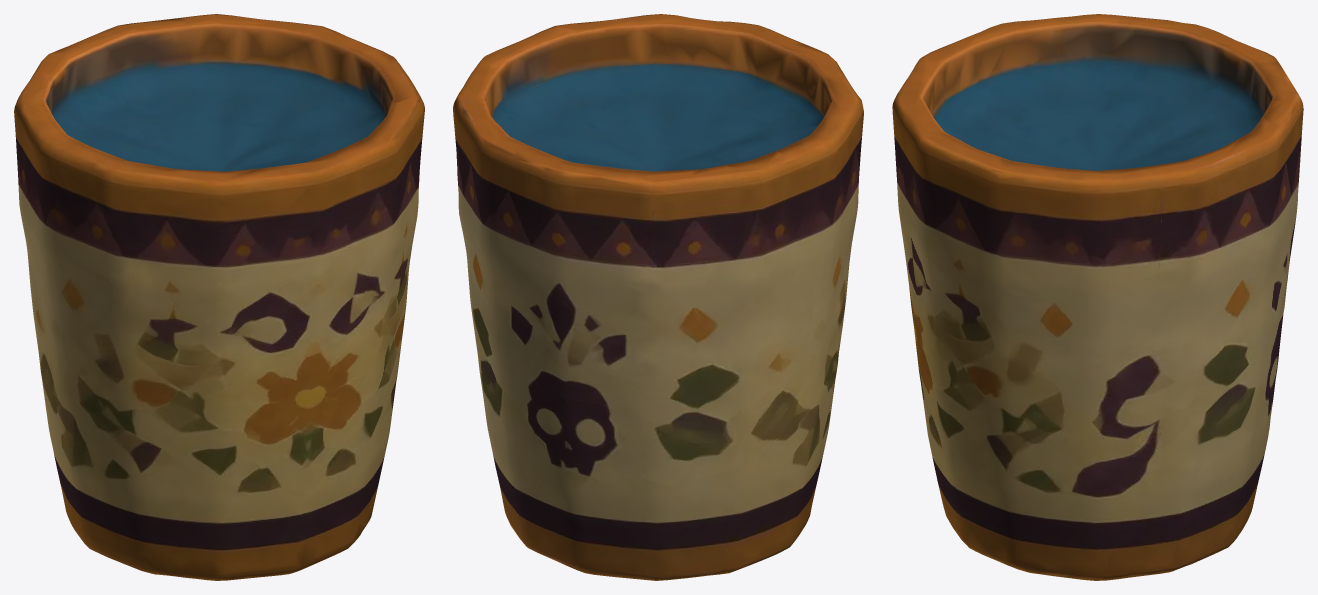
Rendered from vaso-agua.glb.
3 renders of one model, left to right at view 1: azimuth 30°, elevation 25°; view 2: azimuth 150°, elevation 25°; view 3: azimuth 270°, elevation 25°, orthographic.
Visible parts, largest first — view 1: Mesh_0; view 2: Mesh_0; view 3: Mesh_0.
Boxes of the visible parts, x1,y1,x2,y2 form: Mesh_0: [14, 14, 424, 580]; Mesh_0: [453, 14, 863, 580]; Mesh_0: [892, 14, 1303, 580].
Bounding box in the file's own units: 0.1052 × 0.12 × 0.1051.
Materials: 1 (1 with a texture image).
